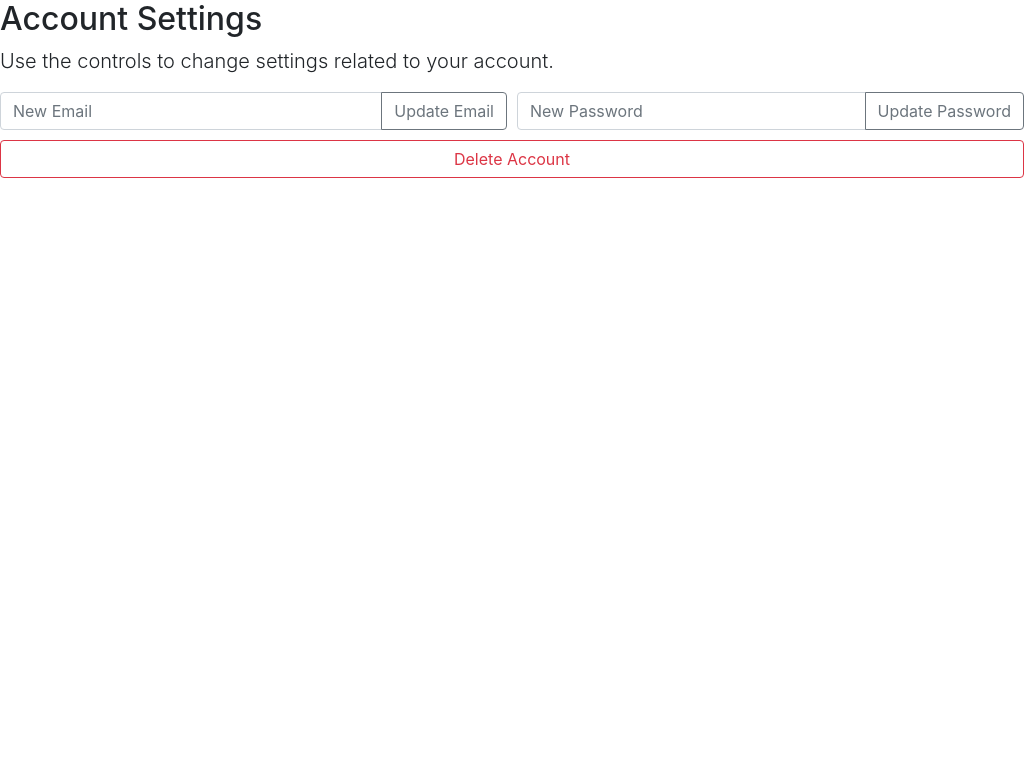
Test: deletes account
Click the button "Delete Account" at (512, 159), box [0,140,1023,178]
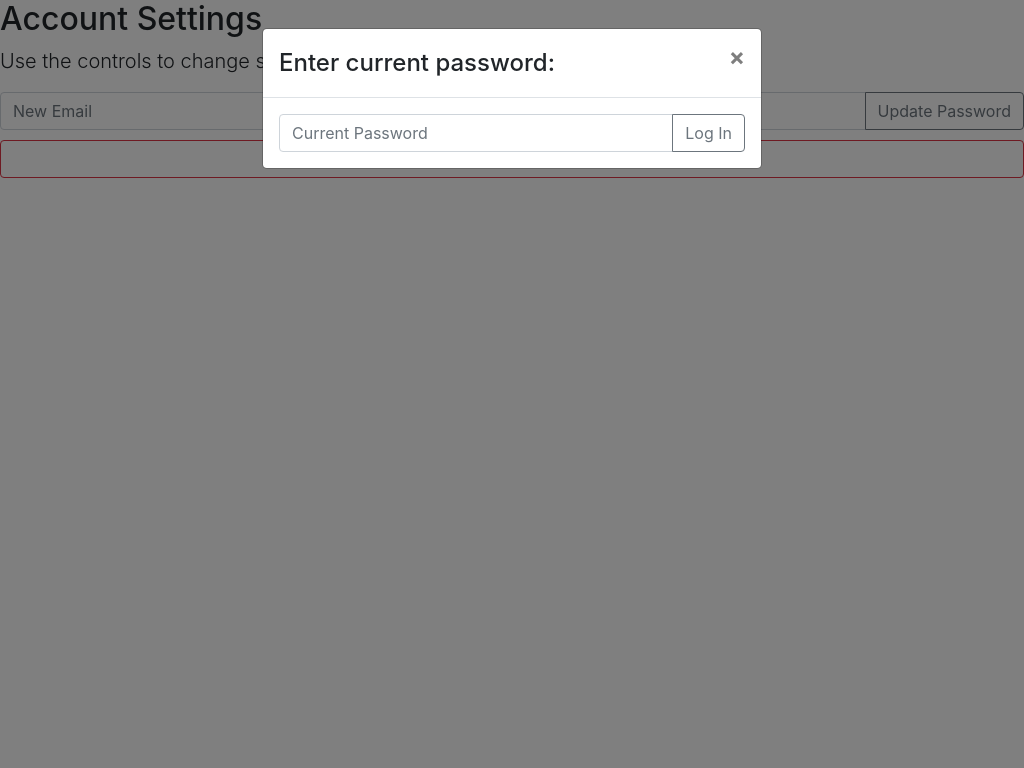
Type "password" into the password field with placeholder "Current Password" at (476, 133), box [279,114,673,152]
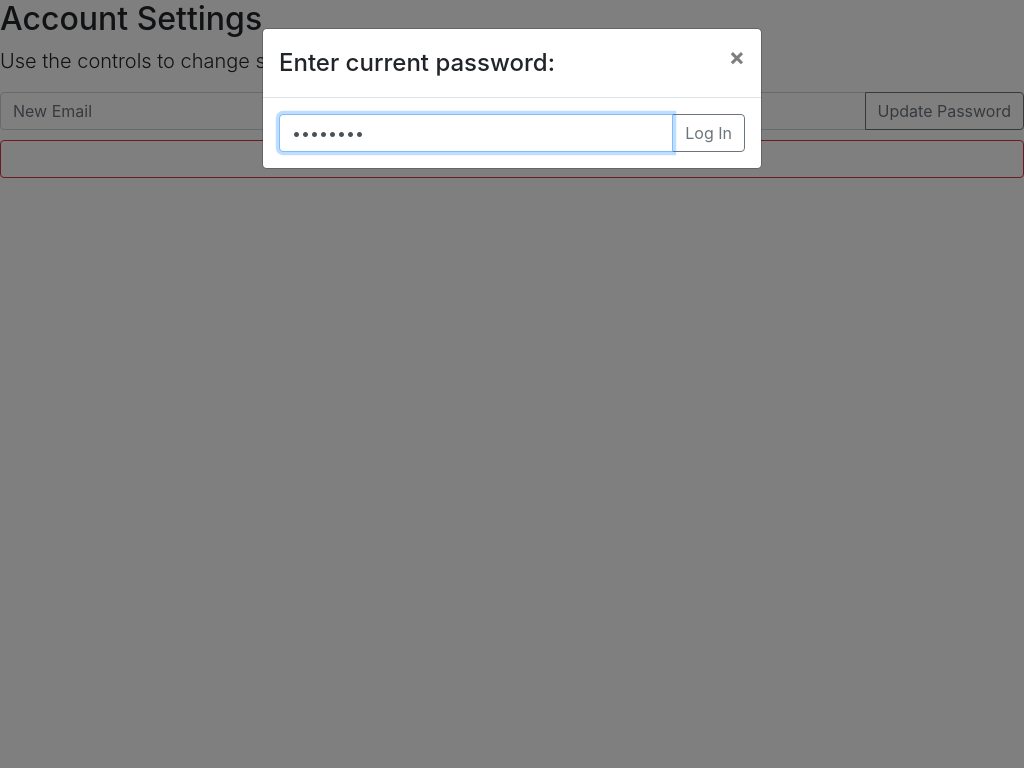
Click the button "Log In" at (709, 133), box [672,114,745,152]
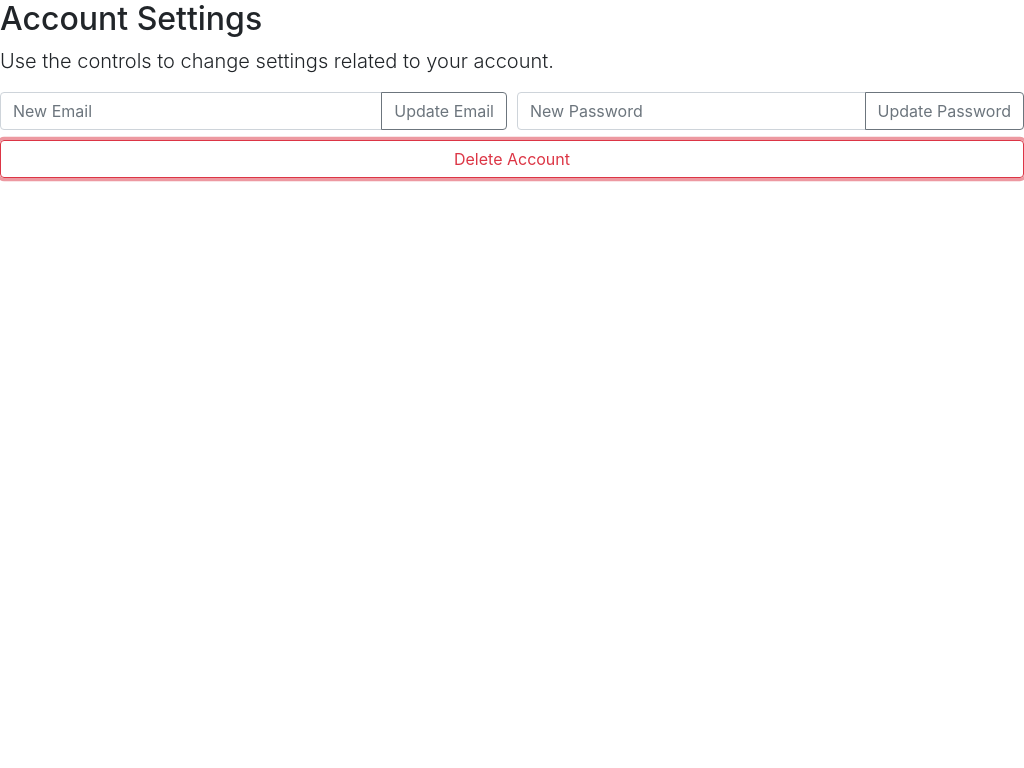
expect the text with placeholder "current password" is gone: met
